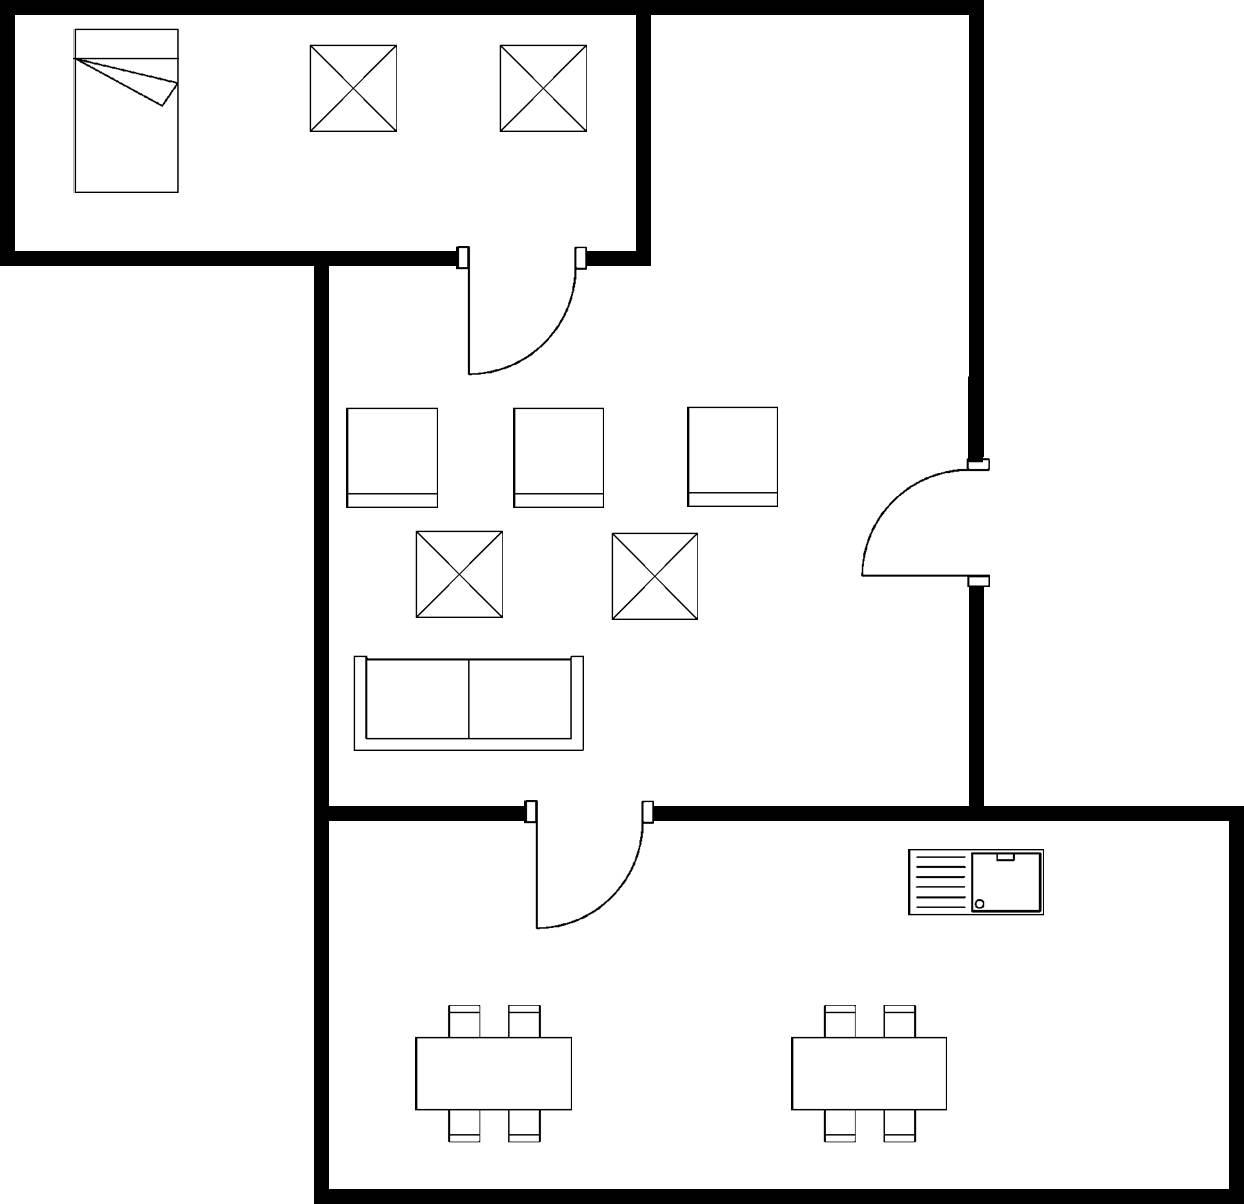bed: (64, 14, 188, 201)
dining_table: (404, 989, 583, 1153), (785, 997, 956, 1147)
sink: (901, 837, 1051, 926)
sofa: (341, 642, 596, 760)
